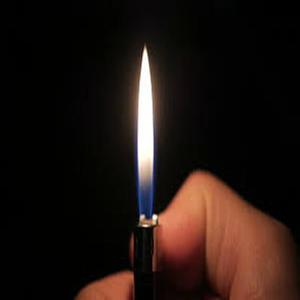fire: (139, 44, 169, 216)
